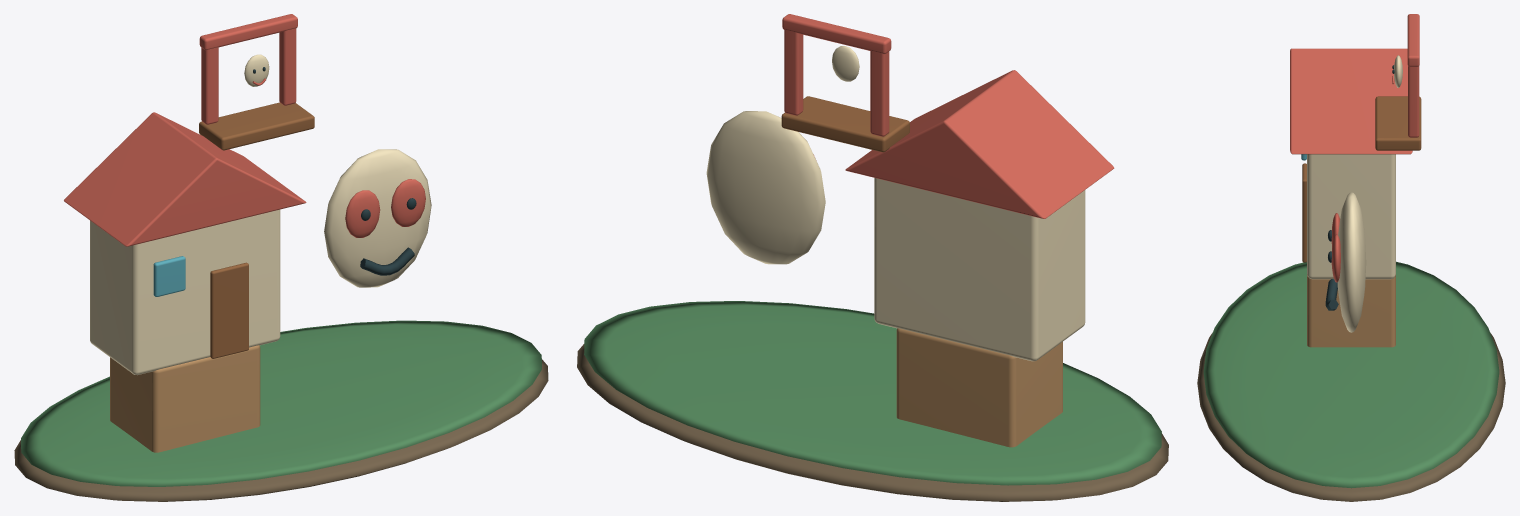
The model's file is complete-third-capital-opera.glb.
The picture shows the model from 3 angles, left to right: view 1: azimuth 30°, elevation 25°; view 2: azimuth 150°, elevation 25°; view 3: azimuth 270°, elevation 25°; orthographic projection. The views are drawn at different scales.
Parts seen in each view (by area): view 1: complete-third-capital-opera_surface_01, complete-third-capital-opera_surface_02, complete-third-capital-opera_surface_03, complete-third-capital-opera_surface_06, complete-third-capital-opera_surface_00, complete-third-capital-opera_surface_04, complete-third-capital-opera_surface_05, complete-third-capital-opera_surface_07; view 2: complete-third-capital-opera_surface_01, complete-third-capital-opera_surface_02, complete-third-capital-opera_surface_03, complete-third-capital-opera_surface_06, complete-third-capital-opera_surface_00, complete-third-capital-opera_surface_04; view 3: complete-third-capital-opera_surface_01, complete-third-capital-opera_surface_03, complete-third-capital-opera_surface_02, complete-third-capital-opera_surface_00, complete-third-capital-opera_surface_06, complete-third-capital-opera_surface_04, complete-third-capital-opera_surface_07.
Part boxes in pixels (bbox=[...]): complete-third-capital-opera_surface_01: bbox=[21, 320, 541, 486]; complete-third-capital-opera_surface_02: bbox=[90, 54, 431, 375]; complete-third-capital-opera_surface_03: bbox=[64, 14, 425, 246]; complete-third-capital-opera_surface_06: bbox=[110, 345, 260, 452]; complete-third-capital-opera_surface_00: bbox=[14, 359, 548, 501]; complete-third-capital-opera_surface_04: bbox=[199, 102, 314, 358]; complete-third-capital-opera_surface_05: bbox=[153, 256, 185, 296]; complete-third-capital-opera_surface_07: bbox=[253, 67, 416, 275]; complete-third-capital-opera_surface_01: bbox=[584, 301, 1161, 485]; complete-third-capital-opera_surface_02: bbox=[706, 46, 1085, 361]; complete-third-capital-opera_surface_03: bbox=[782, 14, 1114, 218]; complete-third-capital-opera_surface_06: bbox=[896, 328, 1062, 447]; complete-third-capital-opera_surface_00: bbox=[577, 344, 1168, 501]; complete-third-capital-opera_surface_04: bbox=[781, 96, 909, 152]; complete-third-capital-opera_surface_01: bbox=[1203, 261, 1499, 488]; complete-third-capital-opera_surface_03: bbox=[1290, 14, 1419, 282]; complete-third-capital-opera_surface_02: bbox=[1307, 55, 1402, 332]; complete-third-capital-opera_surface_00: bbox=[1197, 333, 1505, 501]; complete-third-capital-opera_surface_06: bbox=[1307, 274, 1395, 347]; complete-third-capital-opera_surface_04: bbox=[1302, 96, 1421, 262]; complete-third-capital-opera_surface_07: bbox=[1325, 65, 1394, 310].
Bounding box in the file's own units: 4.56 × 3.25 × 2.5.
